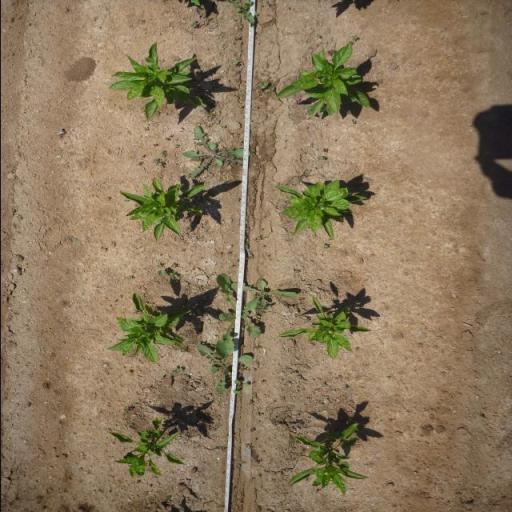plant: (106, 40, 204, 122), (272, 42, 367, 119), (284, 418, 368, 496), (105, 290, 190, 364), (271, 178, 369, 240), (116, 179, 210, 243), (274, 298, 372, 358), (104, 417, 186, 479)
weed: (178, 124, 252, 180), (214, 271, 260, 361), (189, 343, 253, 396), (232, 276, 296, 308), (231, 0, 255, 26), (232, 378, 250, 396), (252, 310, 266, 324), (169, 367, 184, 376), (252, 454, 263, 466), (157, 267, 168, 278), (236, 365, 251, 373), (254, 82, 268, 90), (152, 158, 162, 168), (158, 149, 169, 158), (168, 270, 177, 280), (236, 456, 246, 465), (206, 108, 214, 118), (228, 59, 238, 66), (134, 161, 144, 168), (351, 34, 359, 42), (326, 49, 334, 57), (321, 242, 329, 250), (265, 86, 274, 93), (244, 442, 253, 449), (216, 446, 226, 452), (316, 156, 326, 161), (350, 118, 356, 126), (124, 275, 132, 281), (154, 262, 162, 268), (142, 126, 150, 132), (190, 21, 196, 28), (248, 399, 254, 406), (319, 382, 326, 388), (257, 235, 265, 240), (258, 379, 266, 384), (341, 386, 349, 391), (322, 148, 328, 154), (170, 262, 176, 268), (244, 226, 250, 232), (254, 412, 263, 416), (250, 427, 256, 433), (241, 90, 246, 96), (172, 144, 179, 148), (237, 105, 244, 108)
